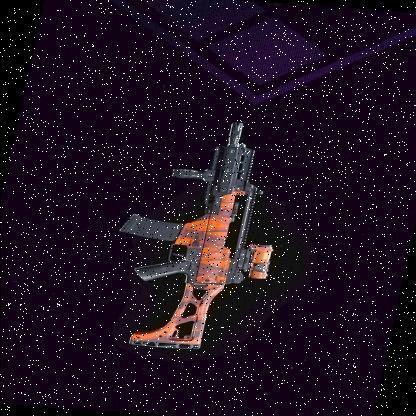rifle: (80, 110, 315, 366)
